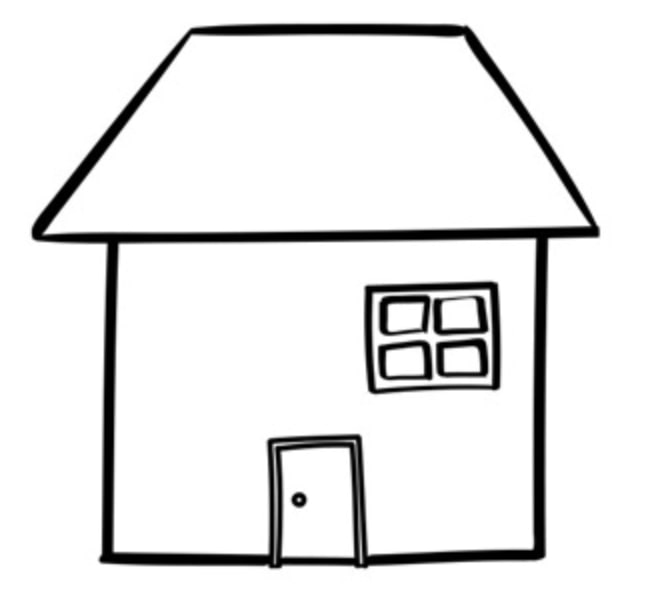House: (12, 3, 609, 573)
